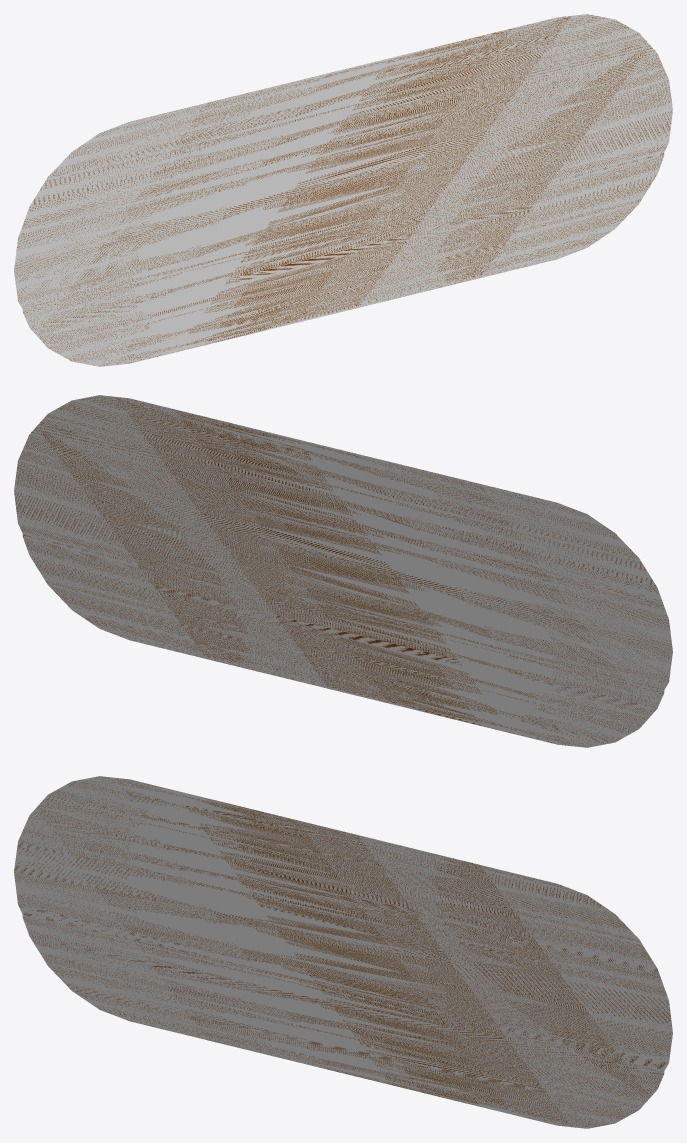
The model's file is original-27.obj.
3 renders of one model, top to bottom at view 1: azimuth 30°, elevation 25°; view 2: azimuth 150°, elevation 25°; view 3: azimuth 330°, elevation 25°, orthographic.
Visible parts, largest first — view 1: mesh1/mesh1-geometry/material_6/component_12#mesh1-geometry; view 2: mesh1/mesh1-geometry/material_6/component_12#mesh1-geometry; view 3: mesh1/mesh1-geometry/material_6/component_12#mesh1-geometry.
Boxes of the visible parts, x1=… form: mesh1/mesh1-geometry/material_6/component_12#mesh1-geometry: x1=14, y1=14, x2=672, y2=366; mesh1/mesh1-geometry/material_6/component_12#mesh1-geometry: x1=14, y1=395, x2=672, y2=747; mesh1/mesh1-geometry/material_6/component_12#mesh1-geometry: x1=14, y1=776, x2=672, y2=1128.
Bounding box in the file's own units: 0.0293 × 0.0103 × 0.
